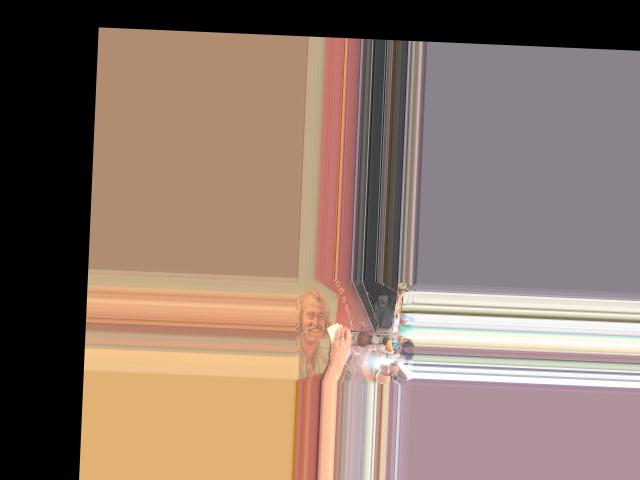beer: (334, 329, 390, 346)
